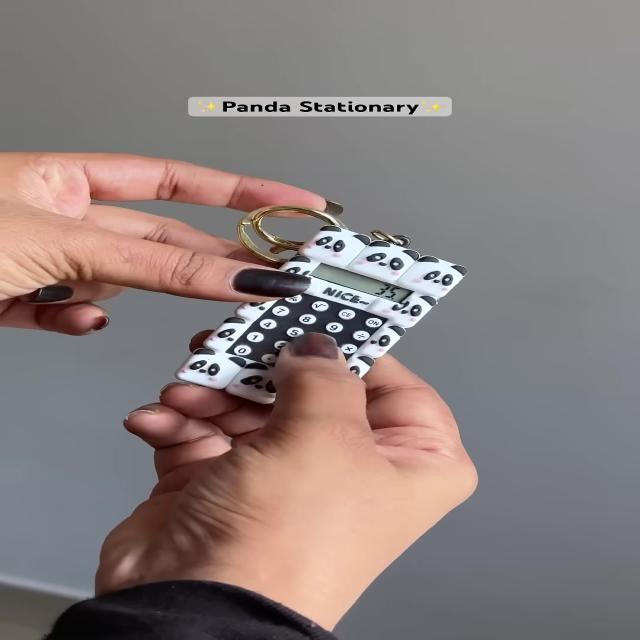Calculator: (130, 182, 501, 435)
